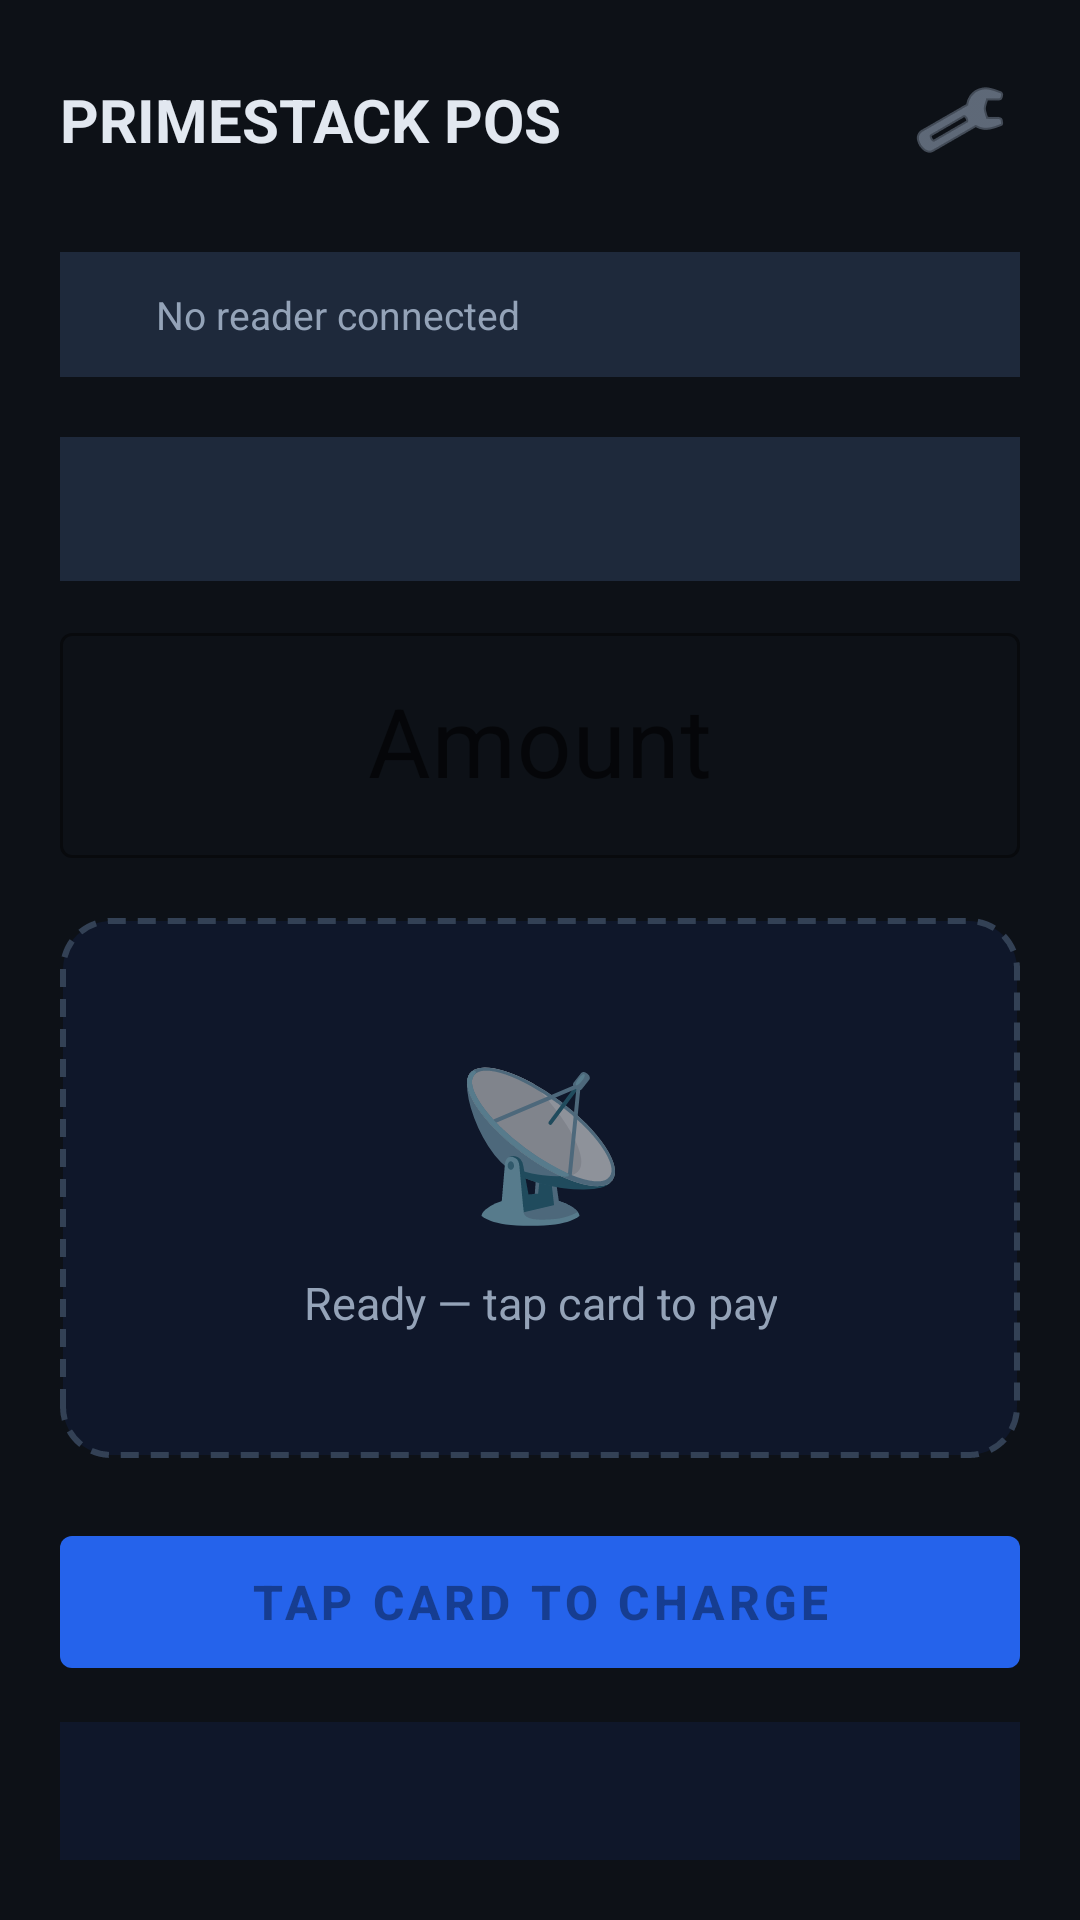

Locate icon controls on the screen. Image size 1080 x 1920, boxes as region(x1, y1, x2, y2).
Settings: region(917, 87, 1003, 153)
